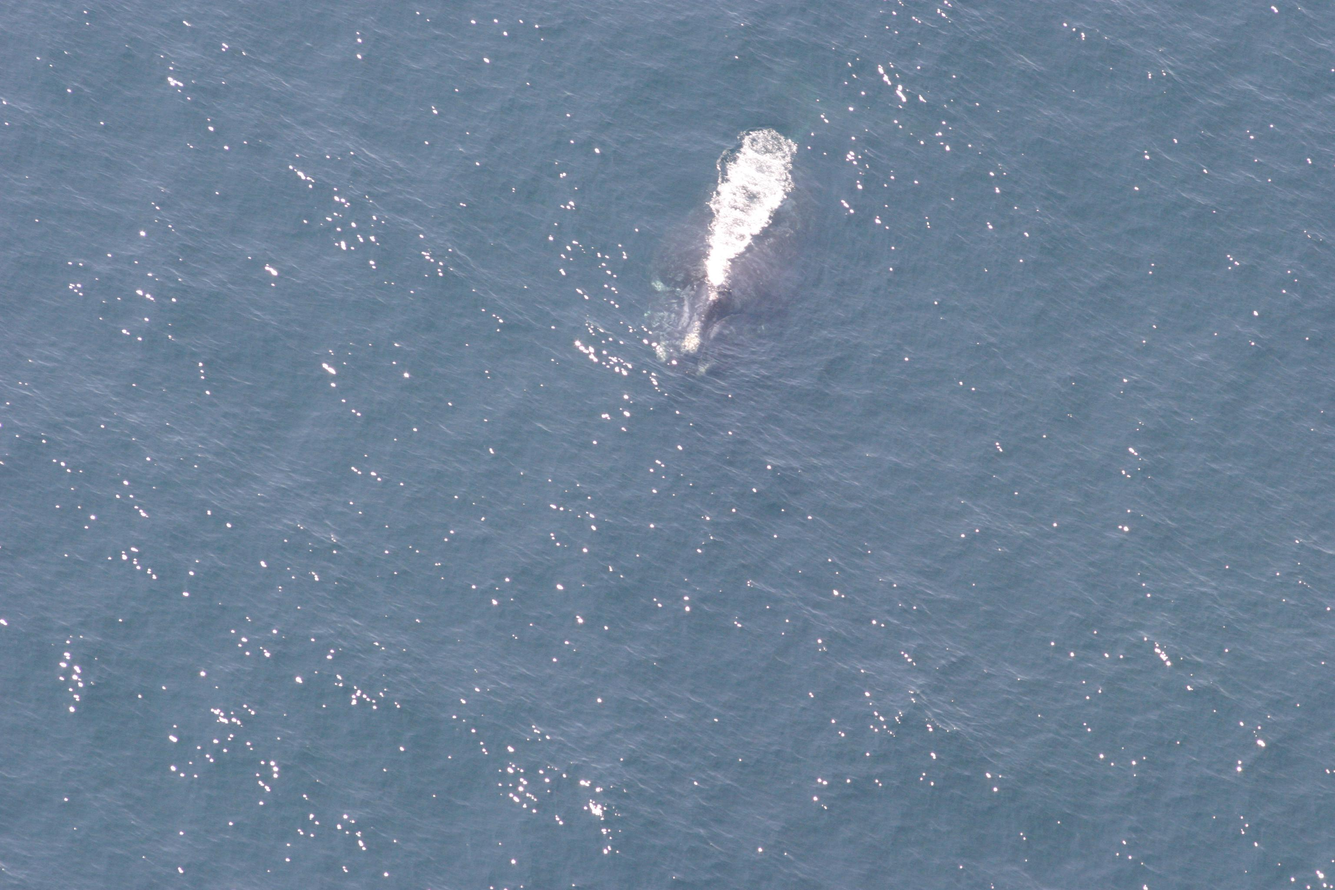whale: (641, 100, 844, 393)
